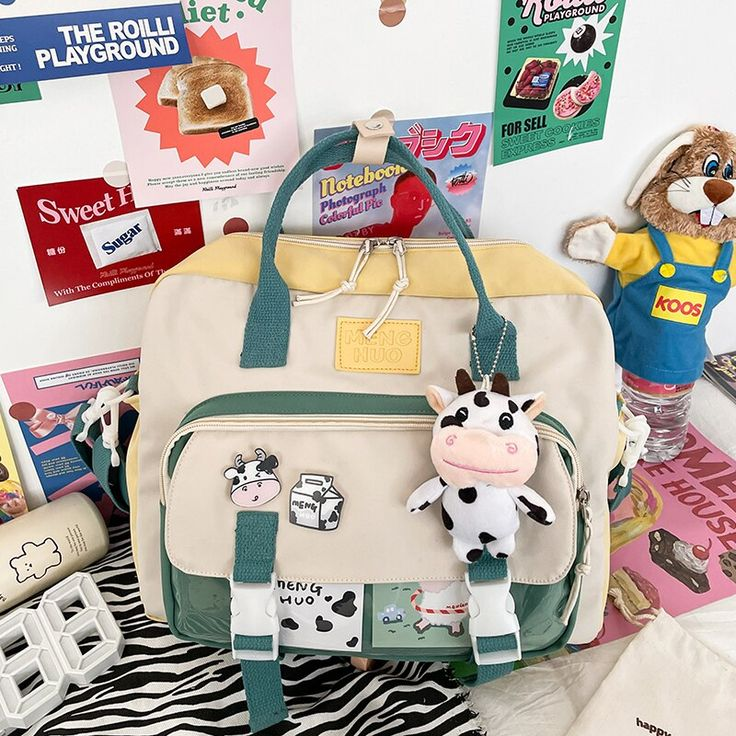nylon: (122, 235, 622, 658)
